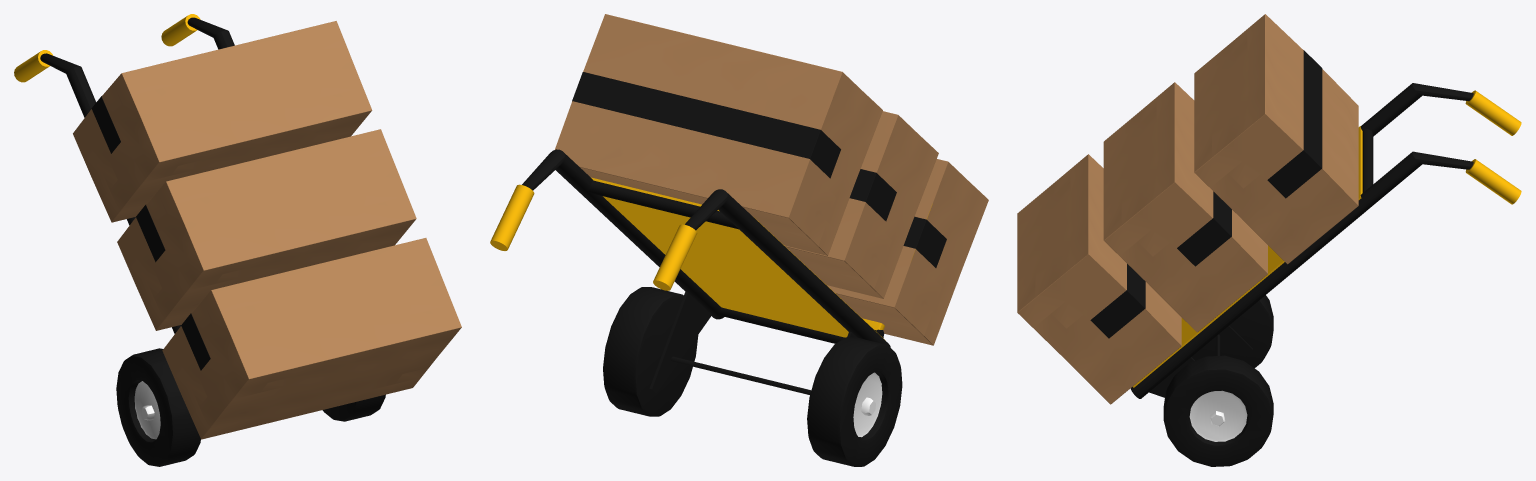
The model's file is wheel_carrior.fbx.
3 renders of one model, left to right at view 1: azimuth 30°, elevation 25°; view 2: azimuth 150°, elevation 25°; view 3: azimuth 270°, elevation 25°, orthographic. The views are drawn at different scales.
Visible parts, largest first — view 1: wheel_carrior; view 2: wheel_carrior; view 3: wheel_carrior.
Part boxes in pixels (box(x1,y1,x2,y2)): wheel_carrior: box(14, 14, 461, 466); wheel_carrior: box(490, 14, 988, 466); wheel_carrior: box(1017, 14, 1521, 466).
Bounding box in the file's own units: 87.18 × 142 × 183.
